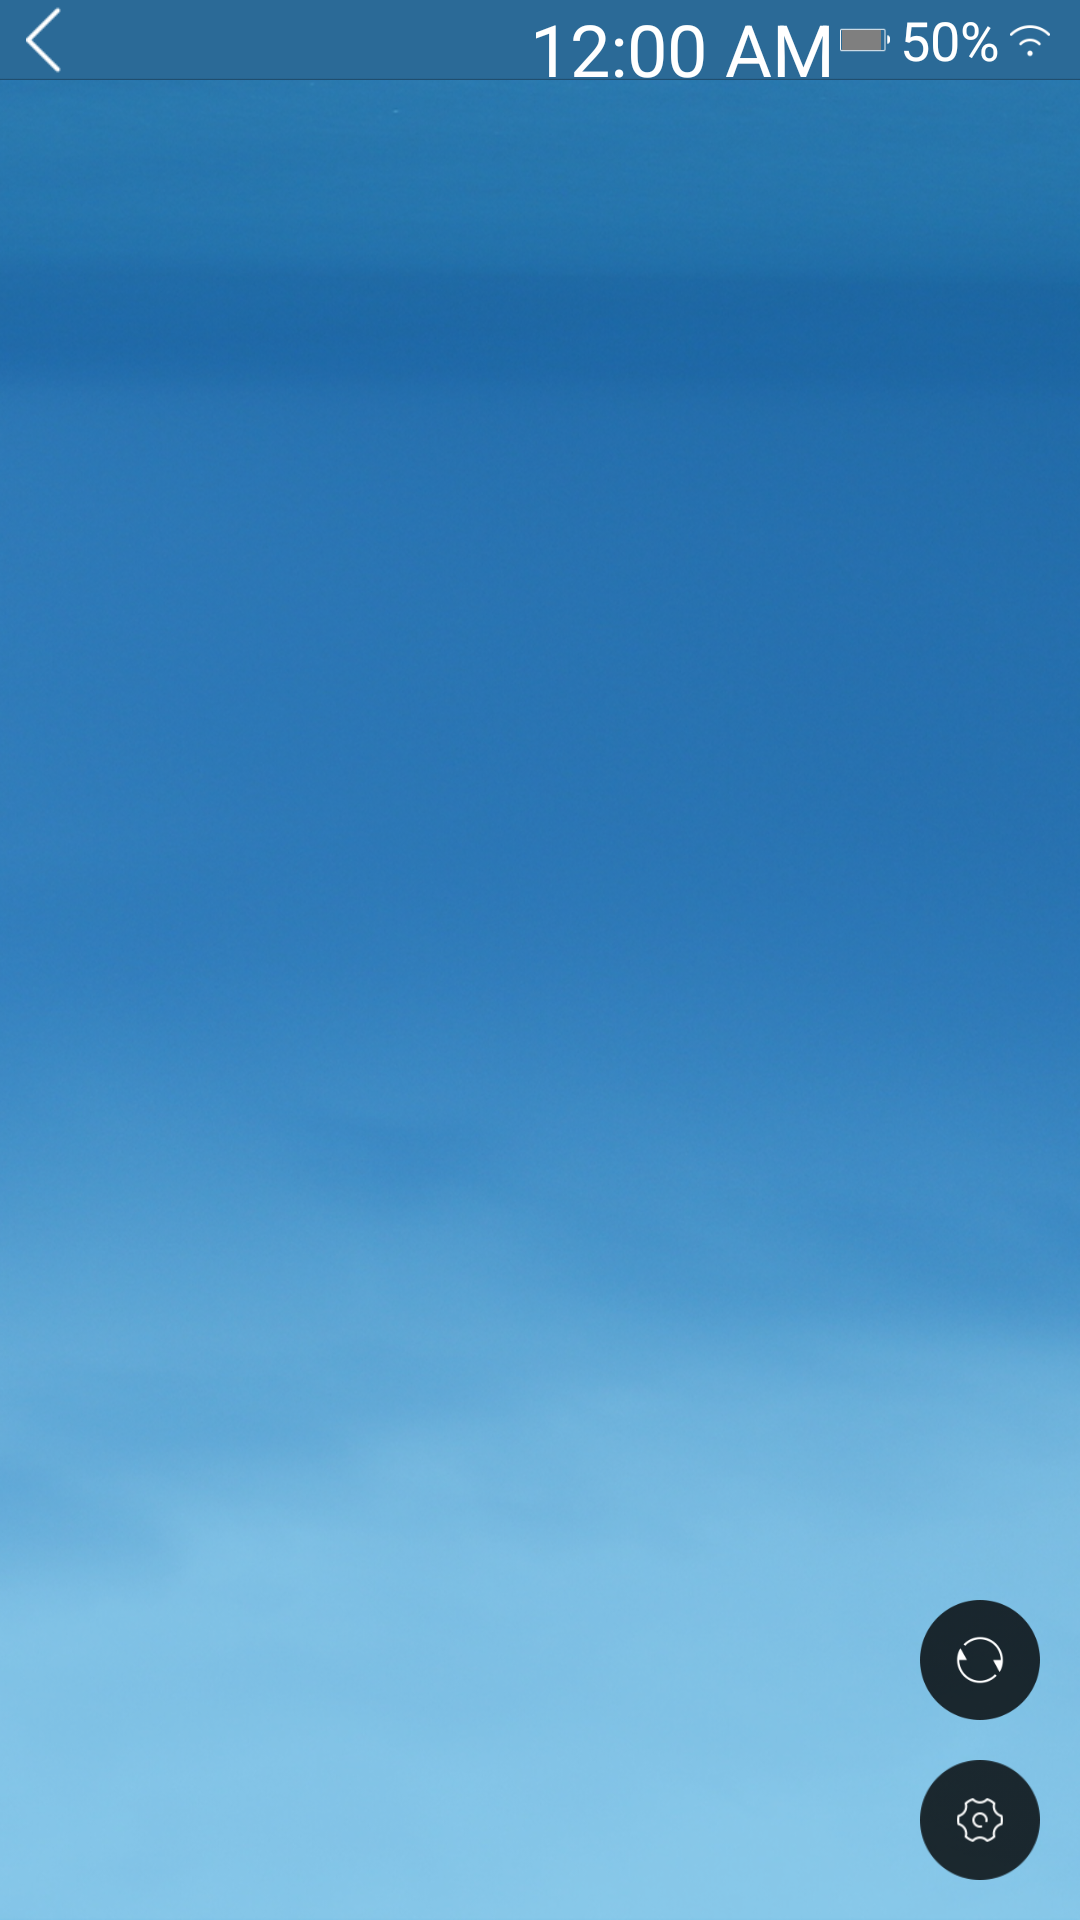

Where to tap for icons on this 1080px x 1920px app screen, as point (x, y):
back: point (43, 40)
wifi: point (1030, 41)
